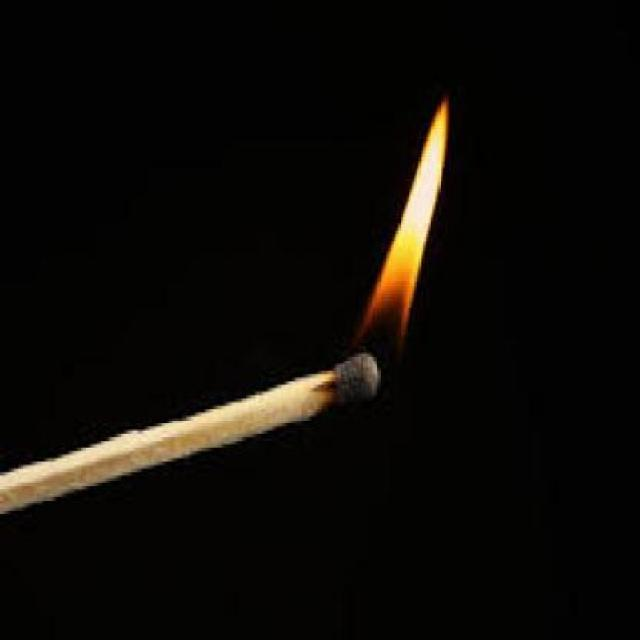Fire: (347, 91, 473, 359)
